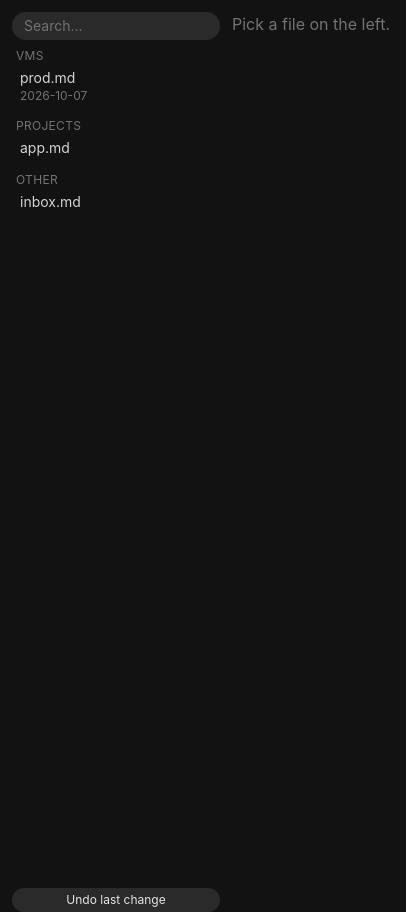
Test: Browse › says when nothing matches
In the search field named "Search notes": x=116, y=26 left=12, top=12, right=220, bottom=40, type "zzzzqqq"
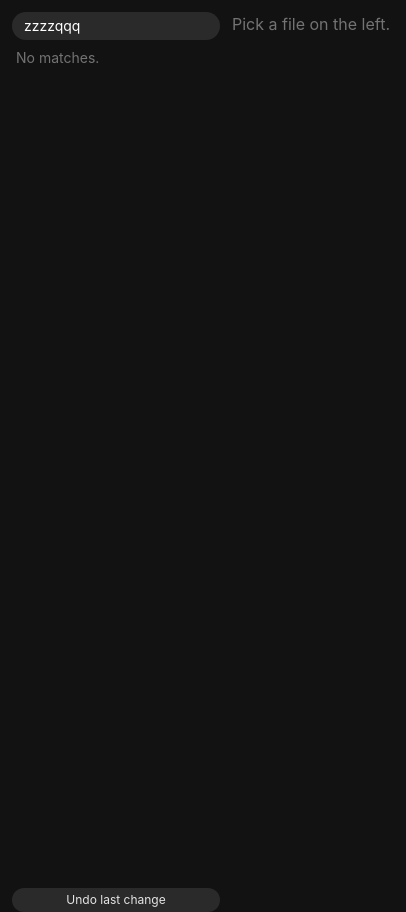
Now the text "No matches." is shown, box left=16, top=49, right=99, bottom=66
